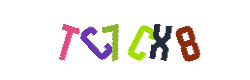7: (83, 0, 163, 80)
8: (147, 0, 227, 80)
C: (60, 0, 140, 80), (88, 0, 168, 80)
T: (45, 0, 125, 80)
X: (120, 0, 200, 80)
